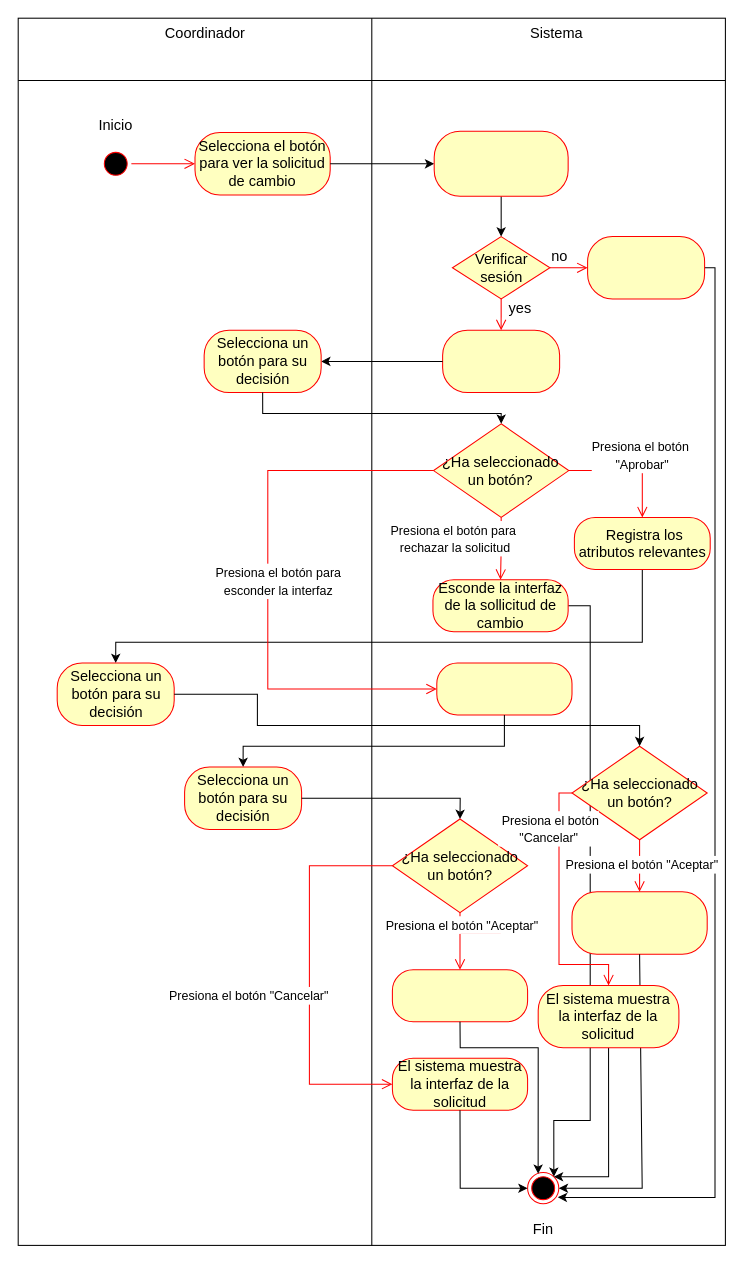
This 744x1264 diagram has some shape labels left out. Each missing label, with the centre of its shape:
"Cambia el atributo ‘regular’ usando una solicitud ‘PATCH’" belongs at point (639, 922).
"Consulta los datos de la sesión del usuario" belongs at point (500, 163).
"El sistema muestra la interfaz para reconfirmar" belongs at point (504, 688).
"muestra interfaz de solicitud de cambio" belongs at point (501, 361).
"Redirige a la interfaz de inicio de sesión" belongs at point (646, 267).
"Registra el atributo ‘aprobada’ como falsa" belongs at point (459, 995).
